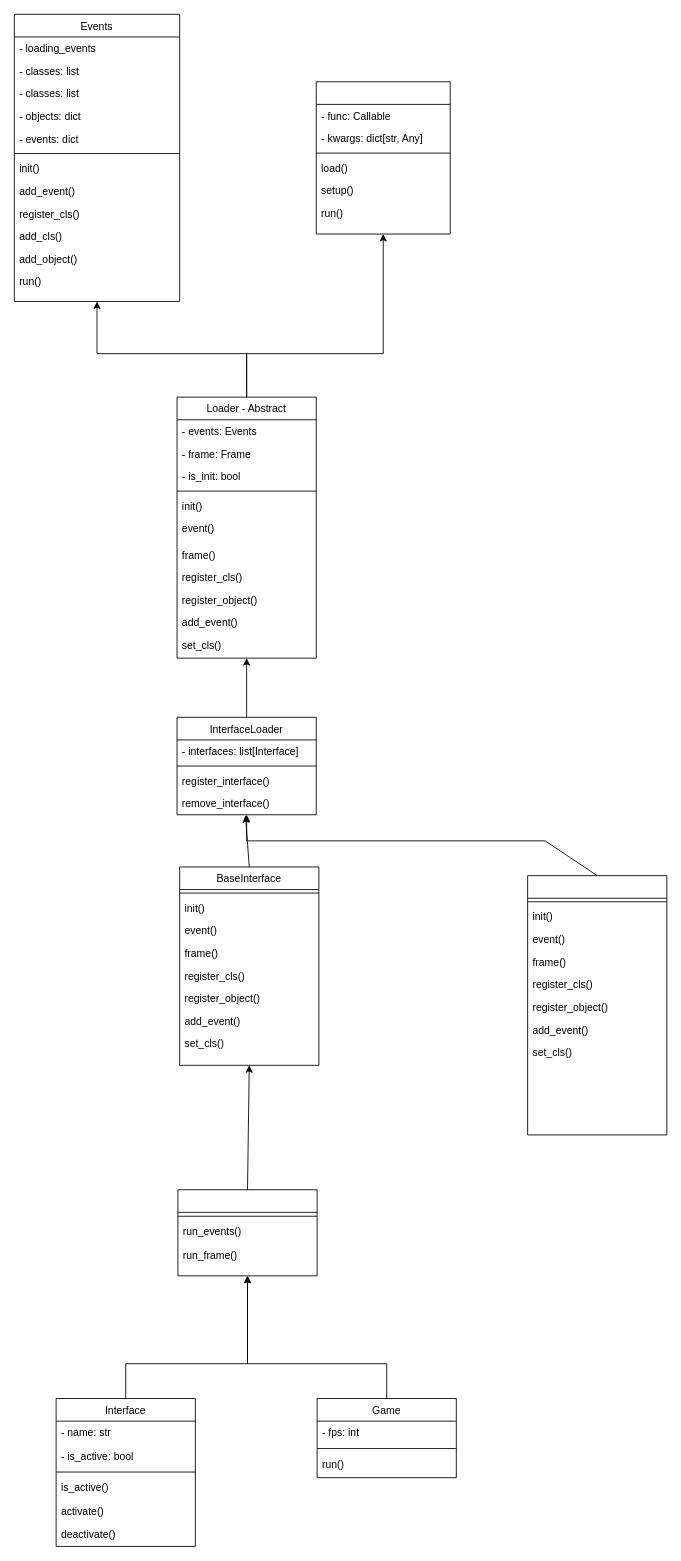
Some shapes in this 681 by 1561 pixel diagram are drawn without their labels. Here are the shapes that lost their labels. From the top down, the box of each, then its label:
(315, 81, 450, 234): Frame
(527, 875, 667, 1135): Group
(177, 1189, 317, 1276): InterfaceRunner
